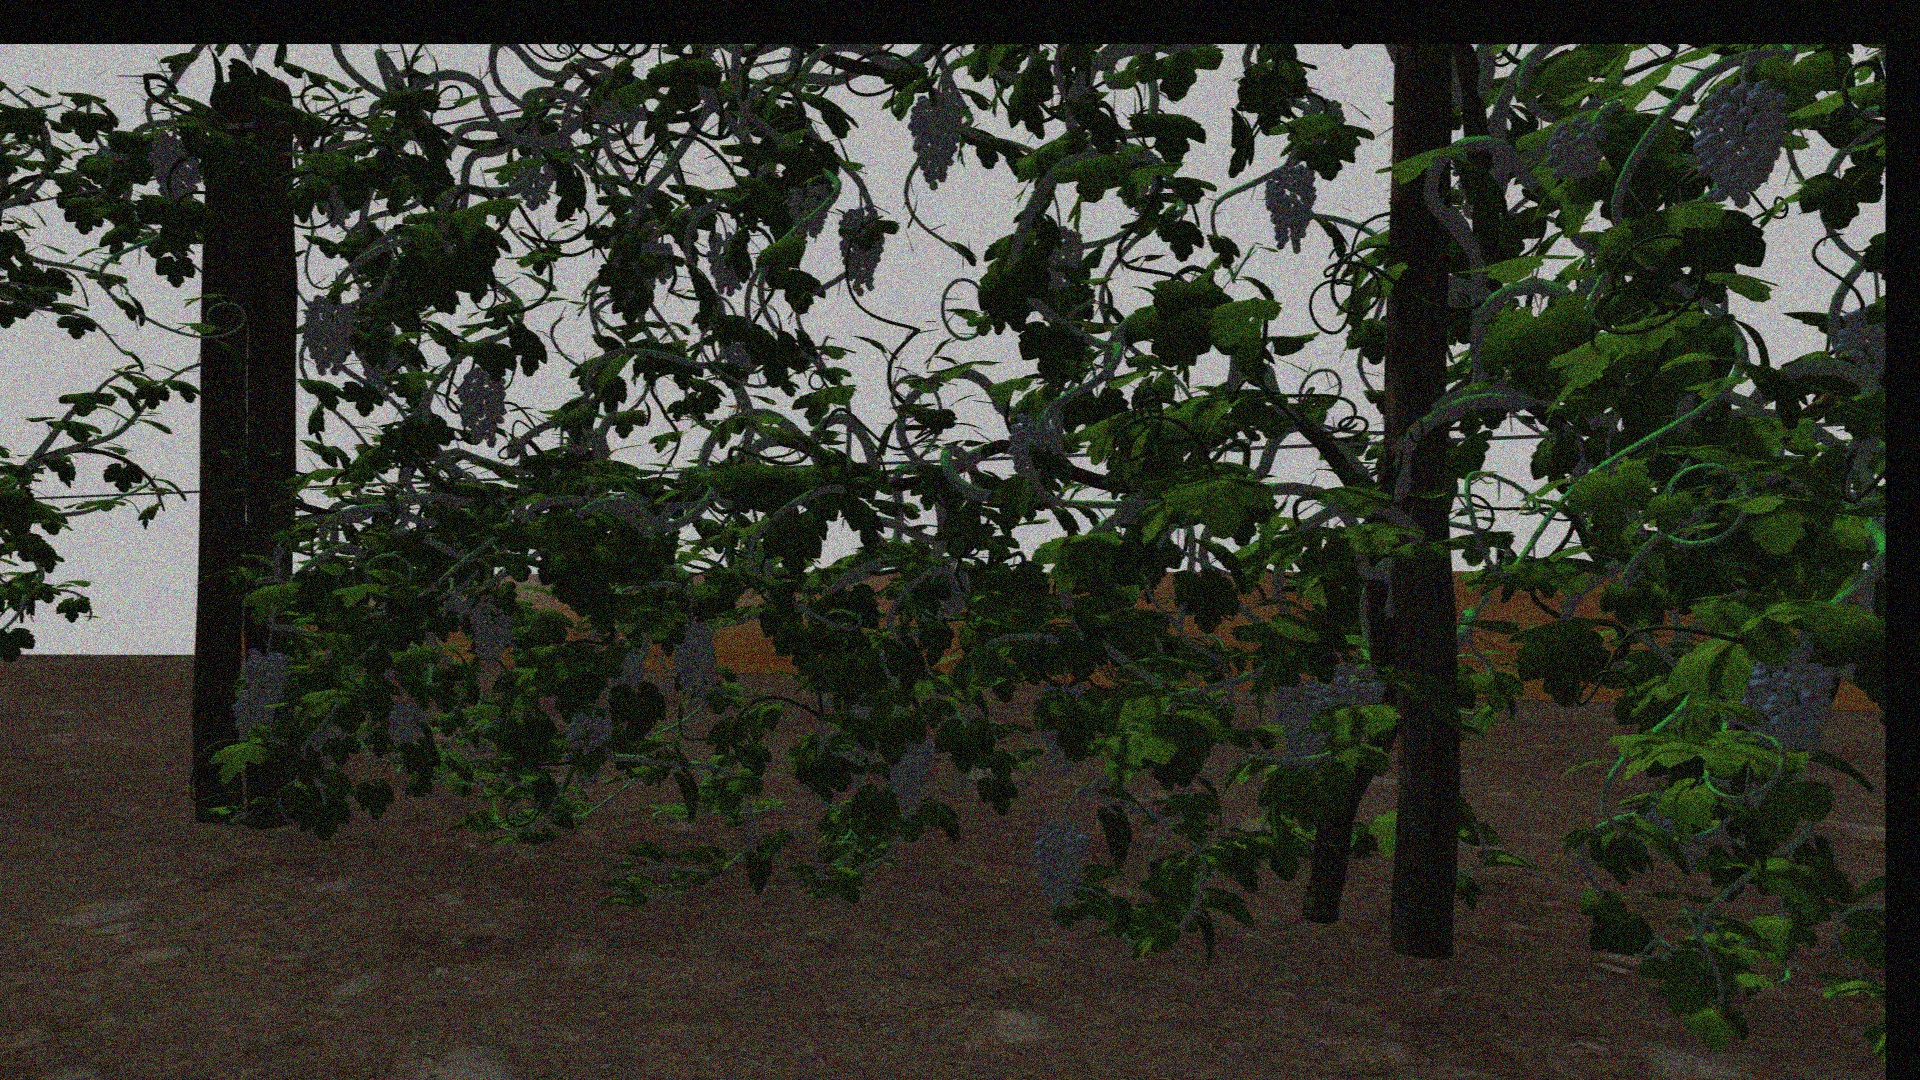grape: (1691, 75, 1789, 214), (1745, 637, 1837, 765), (907, 95, 967, 189), (1031, 820, 1089, 911), (1262, 162, 1316, 253), (299, 295, 359, 375), (886, 735, 936, 823), (1547, 109, 1609, 179), (1276, 680, 1329, 762), (456, 363, 508, 446), (839, 208, 884, 298), (146, 133, 202, 202), (674, 620, 717, 703), (1007, 422, 1065, 480), (469, 593, 514, 665), (244, 647, 287, 708), (564, 707, 615, 758), (1331, 665, 1385, 712), (707, 231, 746, 295), (789, 183, 831, 239), (384, 700, 429, 745), (232, 694, 274, 738)
